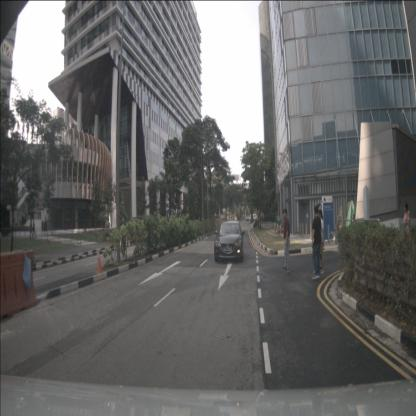barrier: (0, 251, 38, 319)
cone: (96, 251, 104, 273), (110, 236, 113, 246), (276, 224, 279, 233), (280, 225, 282, 233), (274, 224, 276, 231)
